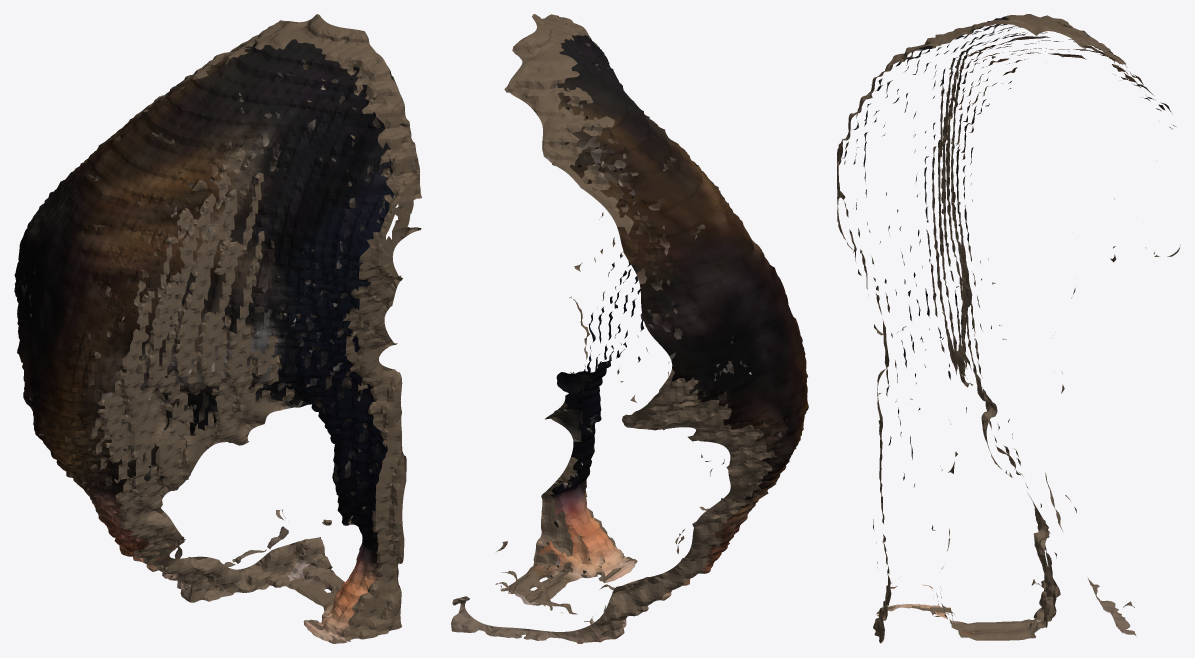
3 views of the same model, side by side, from view 1: azimuth 30°, elevation 25°; view 2: azimuth 150°, elevation 25°; view 3: azimuth 270°, elevation 25° (orthographic). The views are drawn at different scales.
Size of the model in its own units: 0.5211 by 0.9478 by 0.4814.
1 material, 1 textured.
